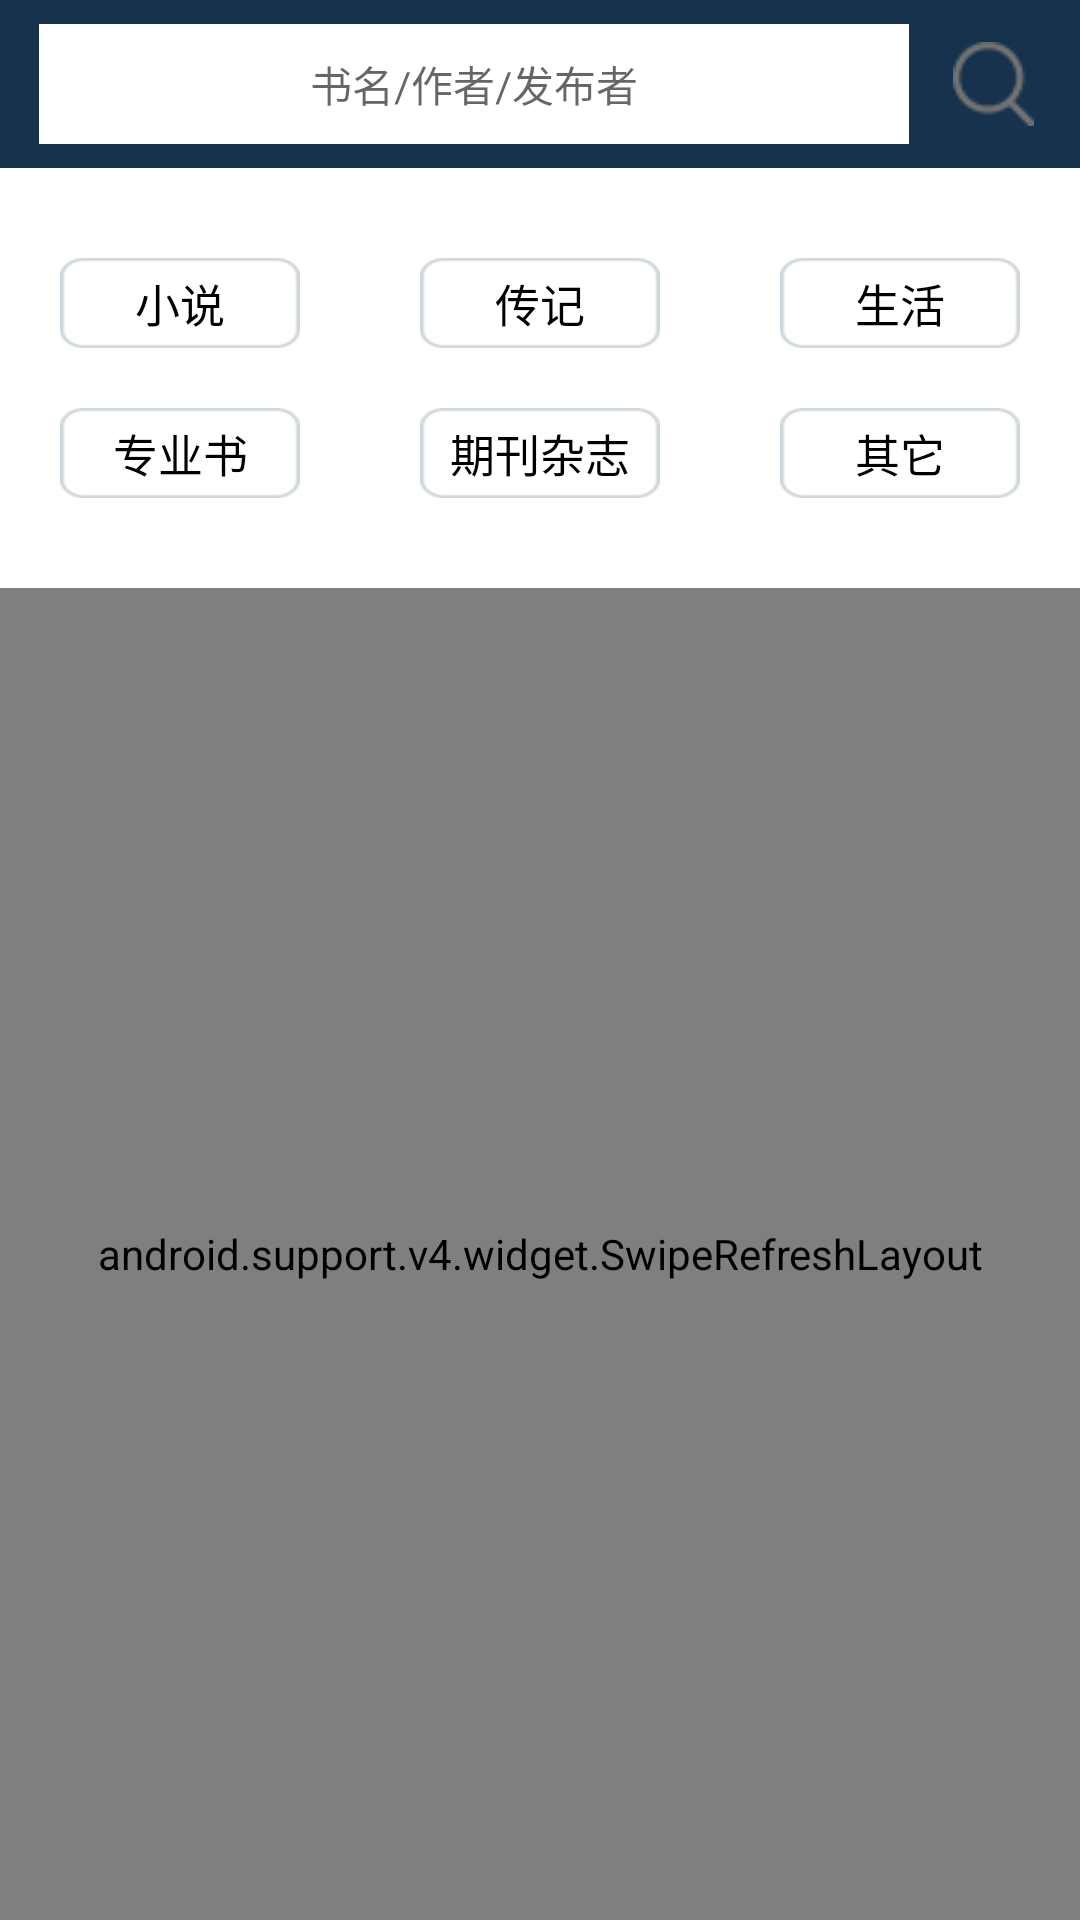

Point at icon controls on the screen. Image size 1080px x 1920px, points as point (x, y).
search: point (993, 84)
